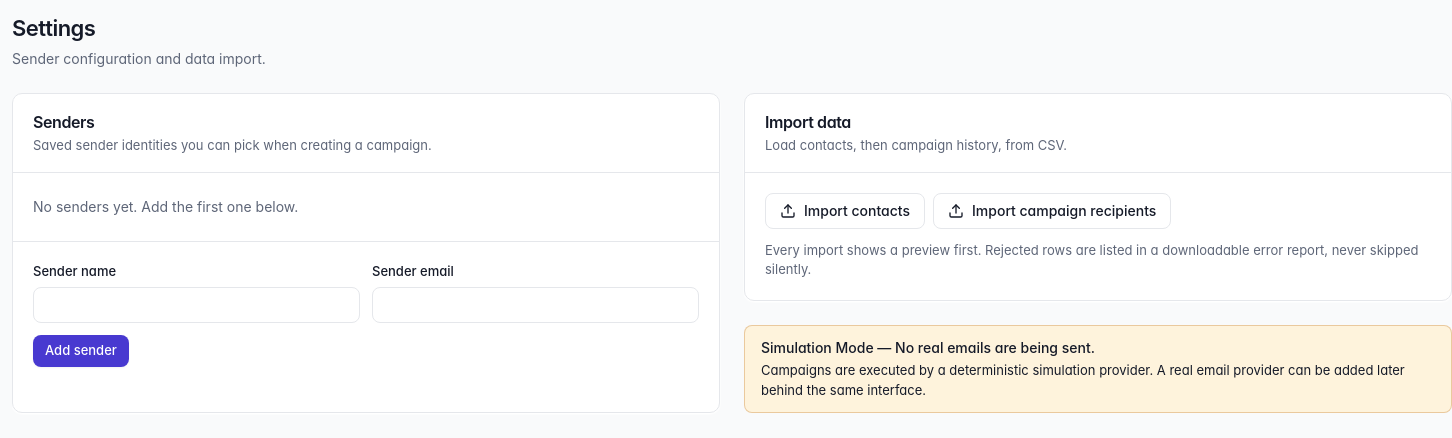
Test: Settings sender form › posts a valid sender and reloads
Expected: the text "No senders yet. Add the first one below." is shown, [33,198,298,214]
Type "Team" into the field labelled "Sender name" at [196, 305], box [33,287,360,323]
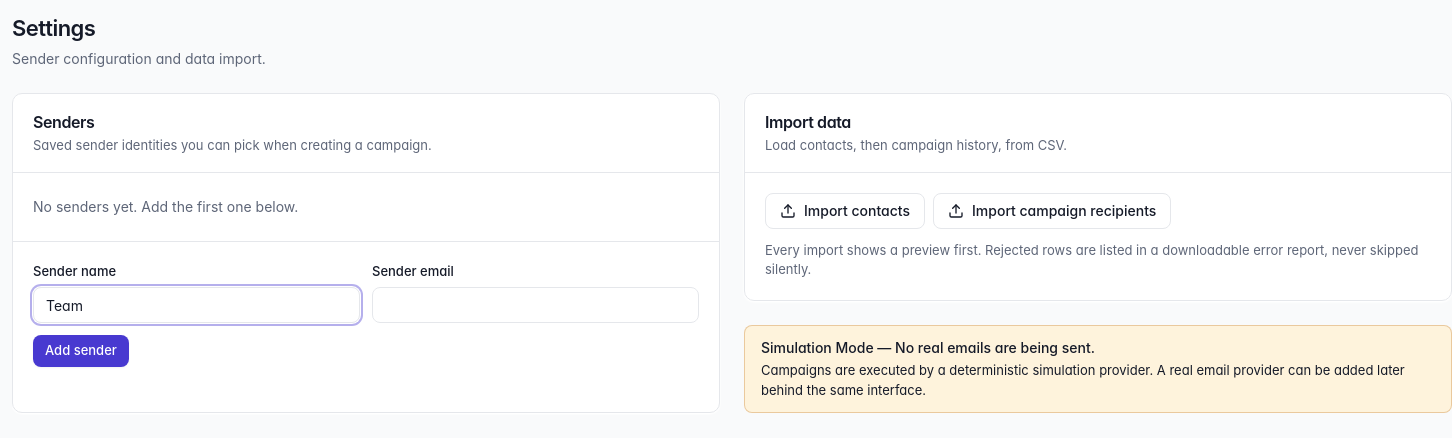
Type "team@example.com" into the field labelled "Sender email" at [536, 305], box [372,287,699,323]
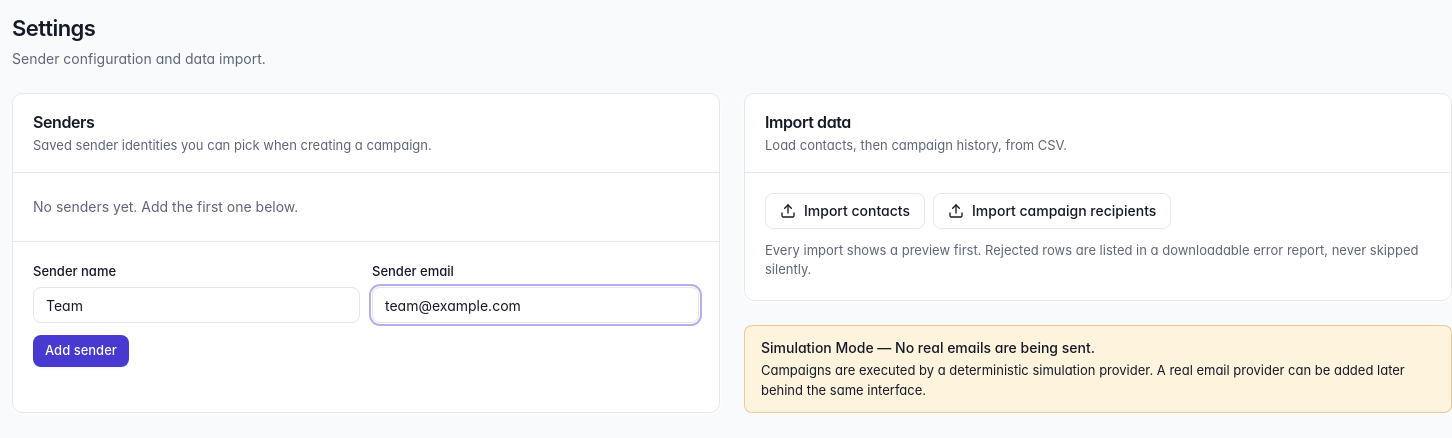
Click the button "Add sender" at [81, 351], box [33,335,129,367]
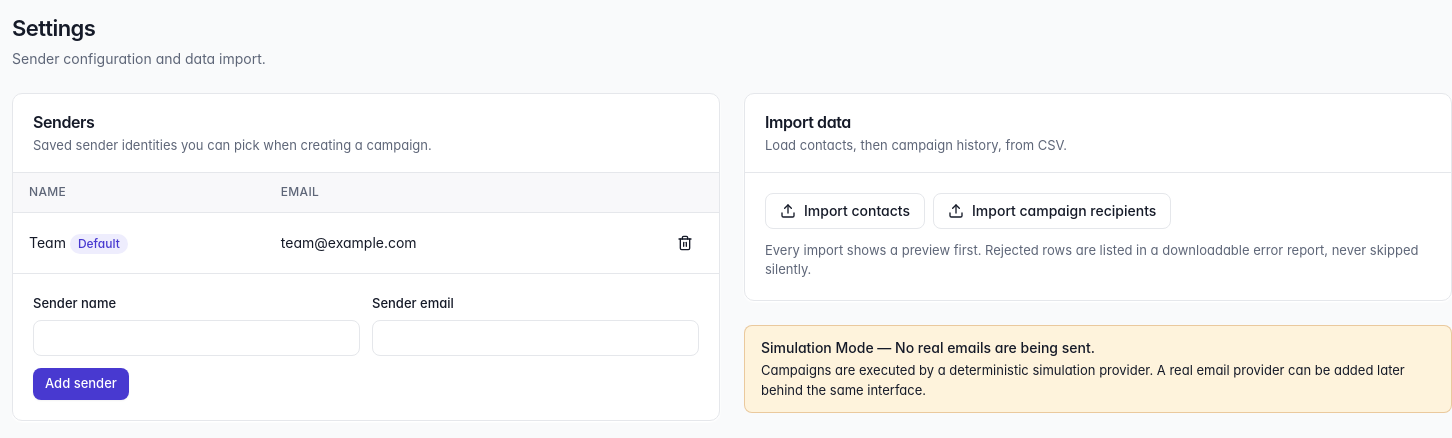
Expected: the text "team@example.com" is shown, [265,212,588,273]
